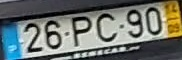0: (143, 5, 163, 37)
2: (22, 22, 43, 54)
6: (43, 19, 63, 50)
9: (124, 8, 144, 39)
C: (94, 11, 119, 44)
P: (70, 14, 93, 48)
